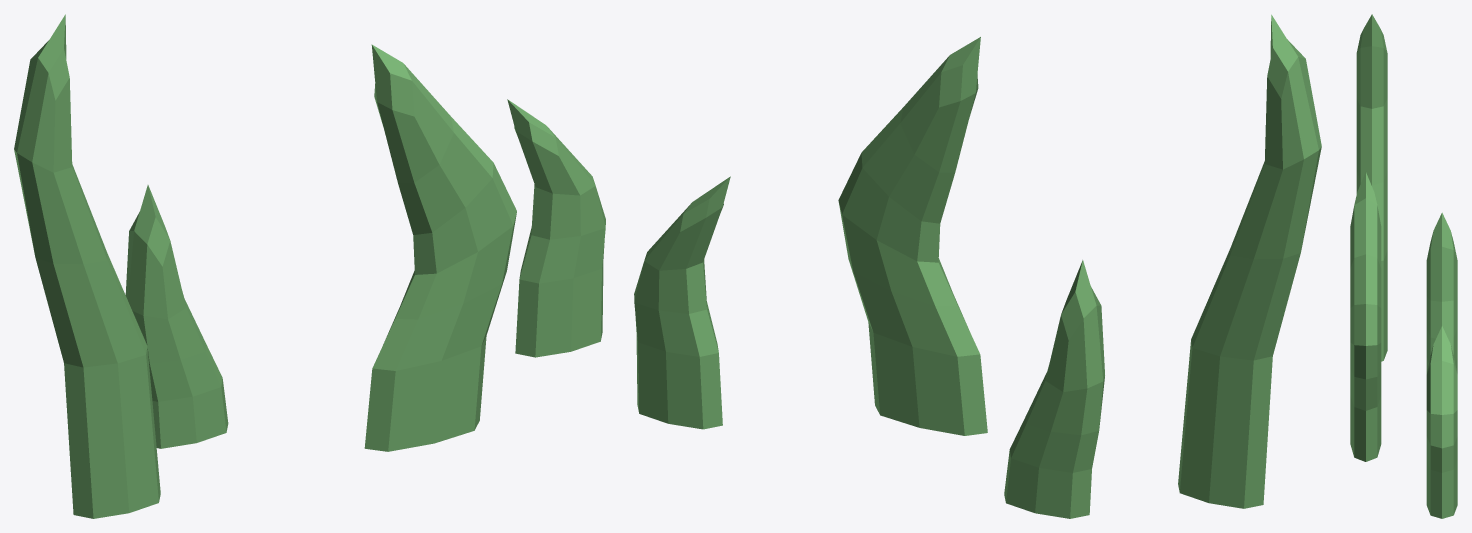
The model's file is Grass.glb.
3 renders of one model, left to right at view 1: azimuth 30°, elevation 25°; view 2: azimuth 150°, elevation 25°; view 3: azimuth 270°, elevation 25°, orthographic. The views are drawn at different scales.
Parts seen in each view (by area): view 1: Grass; view 2: Grass; view 3: Grass.
Boxes of the visible parts, left/top/right/bottom form: Grass: left=14, top=14, right=605, bottom=518; Grass: left=634, top=14, right=1321, bottom=518; Grass: left=1350, top=14, right=1457, bottom=518.
Bounding box in the file's own units: 0.7256 × 0.5415 × 0.1641.
